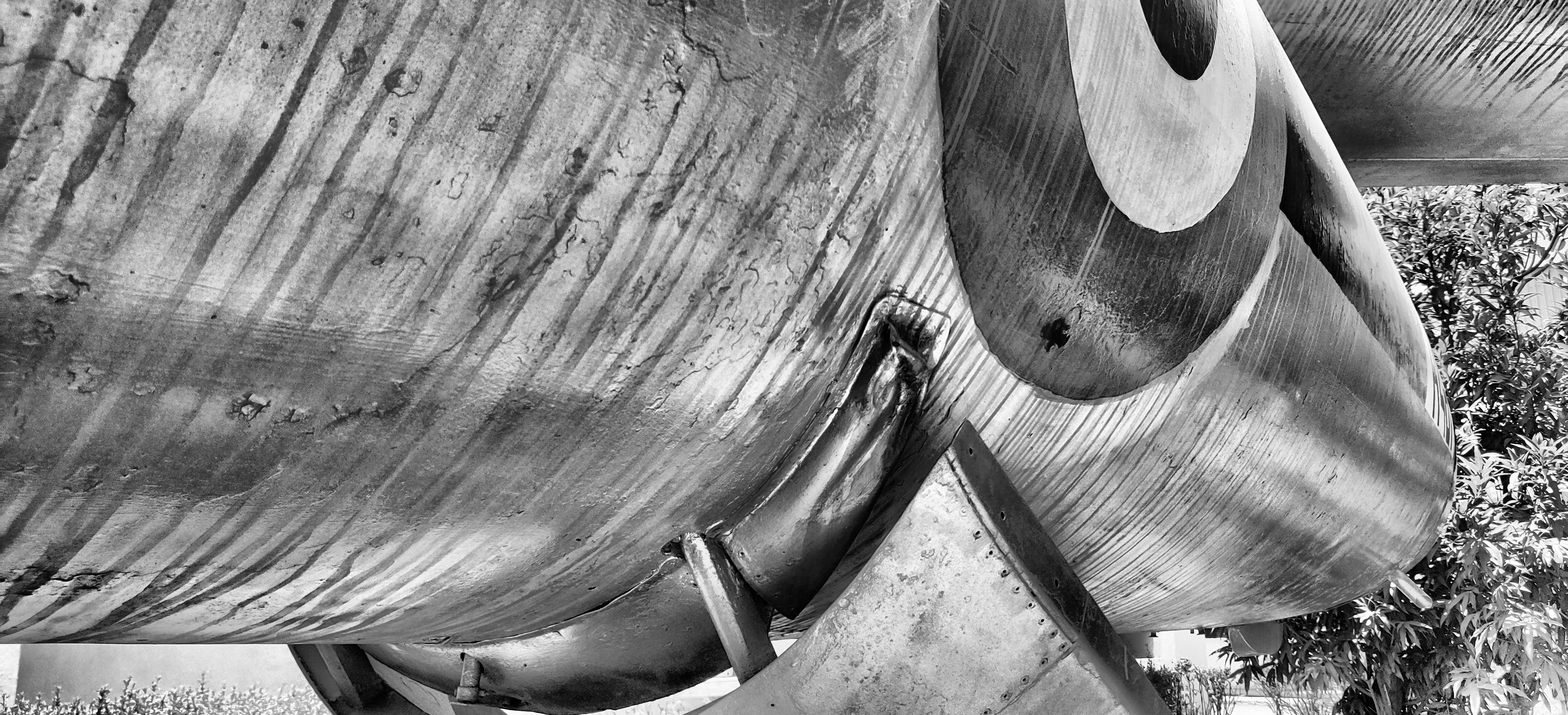crack: (427, 636, 450, 645), (552, 631, 566, 637)
dent: (801, 323, 936, 554), (515, 593, 627, 641), (412, 642, 495, 651), (387, 643, 407, 653)
missing-head: (1000, 509, 1007, 522), (973, 530, 983, 538), (1053, 578, 1060, 589), (967, 447, 975, 455), (1040, 658, 1048, 666), (1022, 675, 1029, 684), (1000, 568, 1008, 575), (1014, 585, 1021, 593), (1050, 630, 1058, 637), (1003, 692, 1010, 700), (1040, 617, 1046, 625), (1060, 644, 1067, 650), (982, 710, 990, 715), (1027, 602, 1033, 608), (989, 549, 994, 556)
paint-peel-off: (10, 568, 110, 596), (891, 425, 929, 474), (233, 393, 270, 421), (938, 390, 966, 426), (492, 276, 518, 302), (1166, 211, 1177, 227)
scratch: (1122, 644, 1130, 680)
